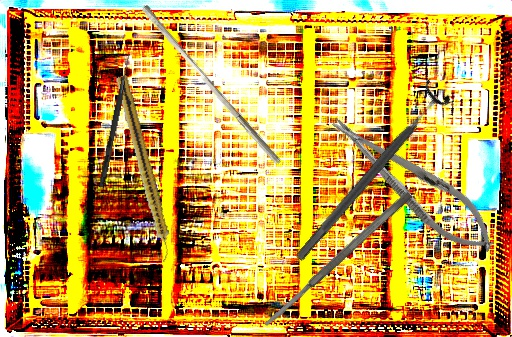Fixation Ring: (285, 77, 455, 270)
Handpiece: (111, 75, 177, 263)
Hook Surgical: (98, 53, 132, 188)
Needle Holder: (319, 101, 508, 266)
Pusher: (135, 3, 288, 166)
Spatula Surgical: (261, 190, 414, 329)
